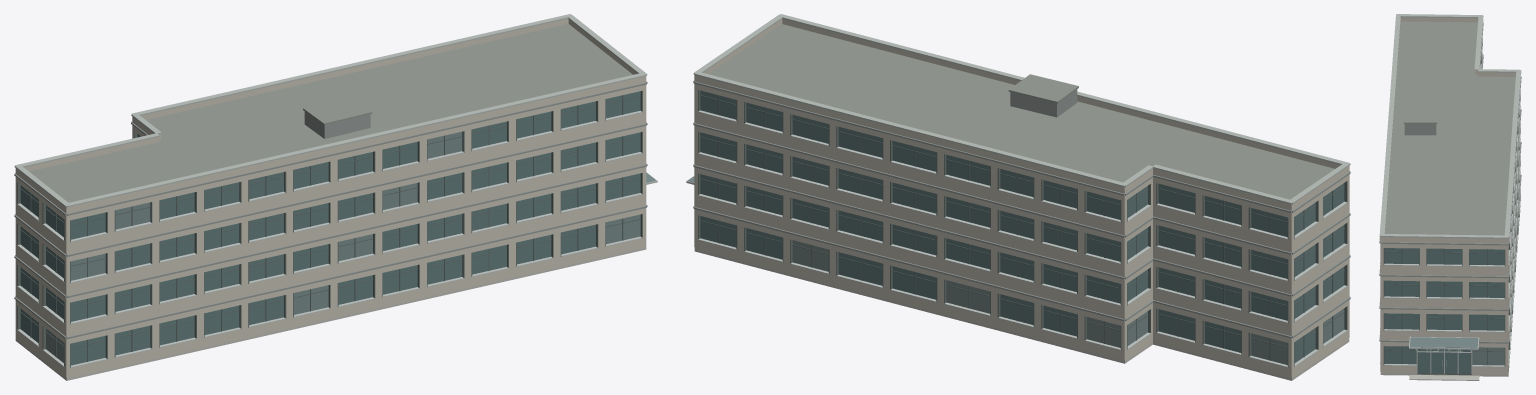
The model's file is mapped_306371641.glb.
3 views of the same model, side by side, from view 1: azimuth 30°, elevation 25°; view 2: azimuth 150°, elevation 25°; view 3: azimuth 270°, elevation 25° (orthographic). The views are drawn at different scales.
Parts seen in each view (by area): view 1: mapped_306371641_ServiceWarm, mapped_306371641_WindowGlass, mapped_306371641_FacultyRoof, mapped_306371641_FacultyDarkPanel, mapped_306371641_WindowAluminium, mapped_306371641_Teaching5TileJoint, mapped_306371641_WindowReveal, mapped_306371641_WindowGlassLight, mapped_306371641_WindowRubber, mapped_306371641_EntryStone; view 2: mapped_306371641_ServiceWarm, mapped_306371641_WindowGlass, mapped_306371641_FacultyRoof, mapped_306371641_FacultyDarkPanel, mapped_306371641_WindowAluminium, mapped_306371641_Teaching5TileJoint, mapped_306371641_WindowReveal, mapped_306371641_WindowRubber, mapped_306371641_WindowGlassLight, mapped_306371641_EntryStone; view 3: mapped_306371641_FacultyRoof, mapped_306371641_ServiceWarm, mapped_306371641_WindowGlass, mapped_306371641_Teaching5TileJoint, mapped_306371641_FacultyDarkPanel, mapped_306371641_WindowAluminium, mapped_306371641_WindowGlassLight, mapped_306371641_WindowReveal, mapped_306371641_WindowRubber, mapped_306371641_EntryStone.
Part boxes in pixels (box(x1,y1,x2,y2)): mapped_306371641_ServiceWarm: box(15, 18, 646, 378); mapped_306371641_WindowGlass: box(20, 91, 640, 365); mapped_306371641_FacultyRoof: box(29, 24, 632, 202); mapped_306371641_FacultyDarkPanel: box(14, 81, 647, 338); mapped_306371641_WindowAluminium: box(17, 110, 657, 367); mapped_306371641_Teaching5TileJoint: box(14, 14, 647, 207); mapped_306371641_WindowReveal: box(17, 90, 642, 367); mapped_306371641_WindowGlassLight: box(46, 131, 655, 362); mapped_306371641_WindowRubber: box(20, 95, 640, 361); mapped_306371641_EntryStone: box(15, 247, 646, 380); mapped_306371641_ServiceWarm: box(694, 19, 1349, 378); mapped_306371641_WindowGlass: box(700, 90, 1344, 362); mapped_306371641_FacultyRoof: box(709, 24, 1334, 199); mapped_306371641_FacultyDarkPanel: box(693, 81, 1350, 338); mapped_306371641_WindowAluminium: box(686, 110, 1347, 367); mapped_306371641_Teaching5TileJoint: box(693, 14, 1350, 204); mapped_306371641_WindowReveal: box(698, 90, 1347, 367); mapped_306371641_WindowRubber: box(700, 95, 1344, 360); mapped_306371641_WindowGlassLight: box(688, 176, 1344, 364); mapped_306371641_EntryStone: box(694, 249, 1349, 380); mapped_306371641_FacultyRoof: box(1385, 21, 1515, 235); mapped_306371641_ServiceWarm: box(1380, 17, 1520, 374); mapped_306371641_WindowGlass: box(1384, 248, 1504, 373); mapped_306371641_Teaching5TileJoint: box(1379, 14, 1521, 238); mapped_306371641_FacultyDarkPanel: box(1379, 22, 1521, 343); mapped_306371641_WindowAluminium: box(1380, 46, 1520, 374); mapped_306371641_WindowGlassLight: box(1410, 337, 1504, 365); mapped_306371641_WindowReveal: box(1383, 40, 1520, 375); mapped_306371641_WindowRubber: box(1384, 248, 1504, 365); mapped_306371641_EntryStone: box(1380, 212, 1520, 380).
Size of the model in its own units: 52.52 by 15.88 by 13.48.
